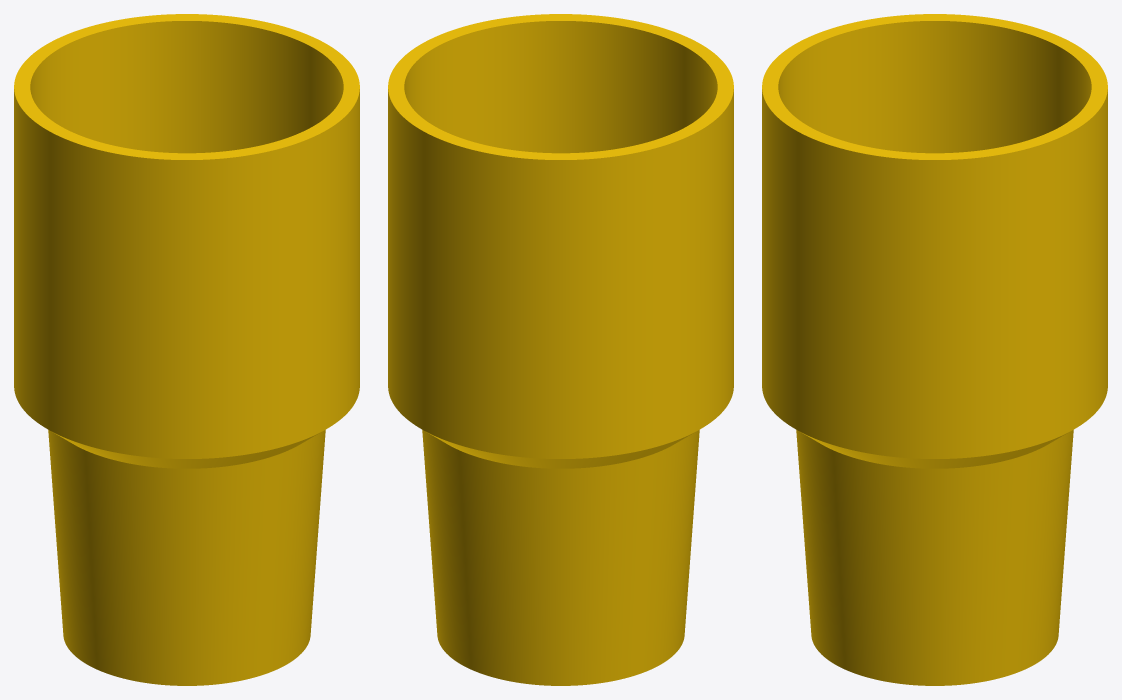
The model's file is cup_holder.csg.glb.
3 views of the same model, side by side, from view 1: azimuth 30°, elevation 25°; view 2: azimuth 150°, elevation 25°; view 3: azimuth 270°, elevation 25° (orthographic).
Size of the model in its own units: 0.1065 by 0.1858 by 0.1065.
